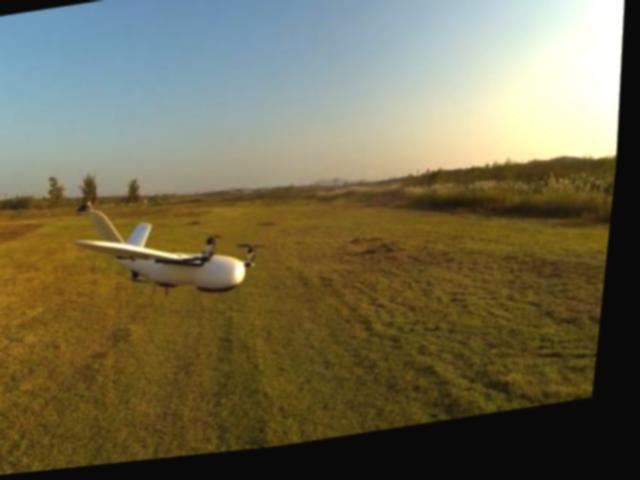uav: (66, 174, 279, 335)
